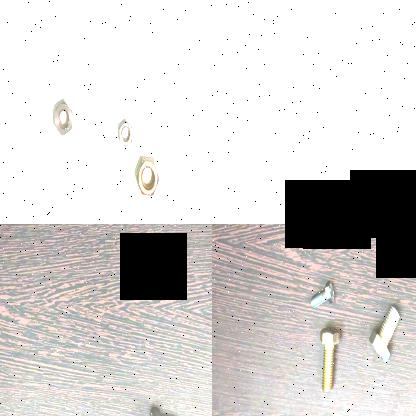Bolts: (366, 300, 410, 366), (318, 323, 343, 393), (308, 280, 338, 314), (394, 248, 414, 276)
NUTS: (134, 152, 160, 204), (50, 100, 78, 142), (118, 122, 132, 148)
